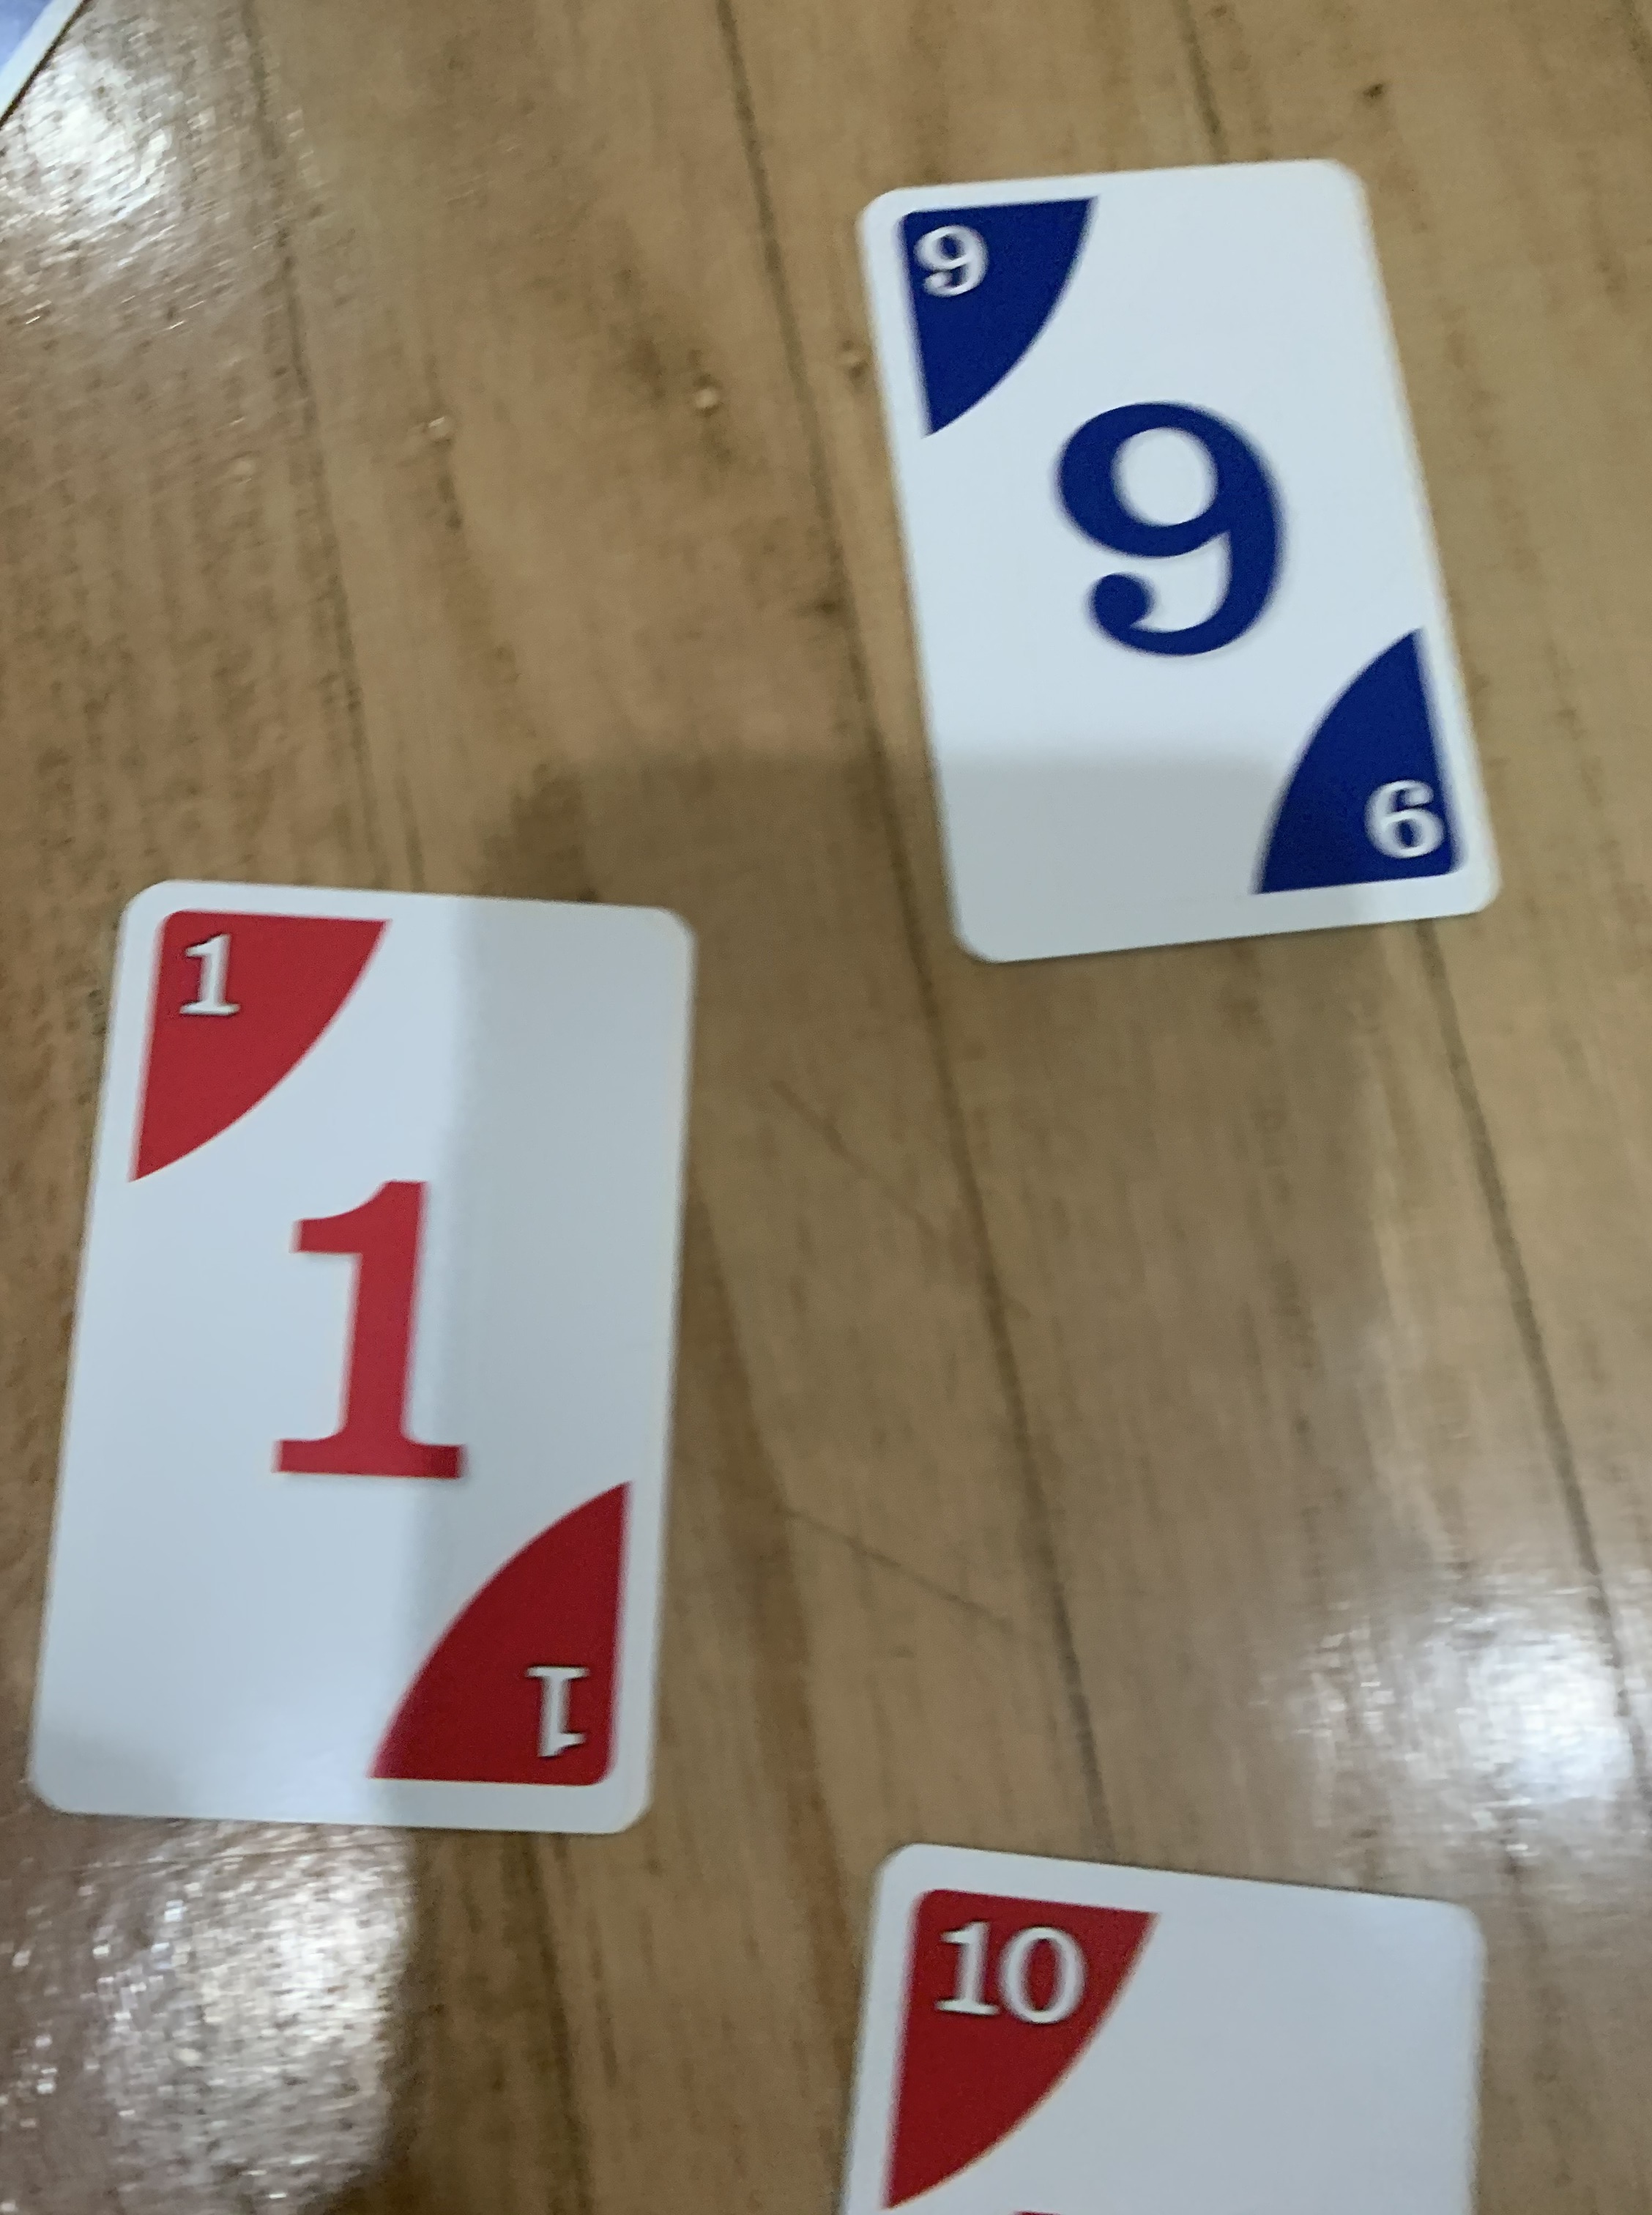nine: (850, 151, 1503, 981)
one: (17, 877, 705, 1842)
